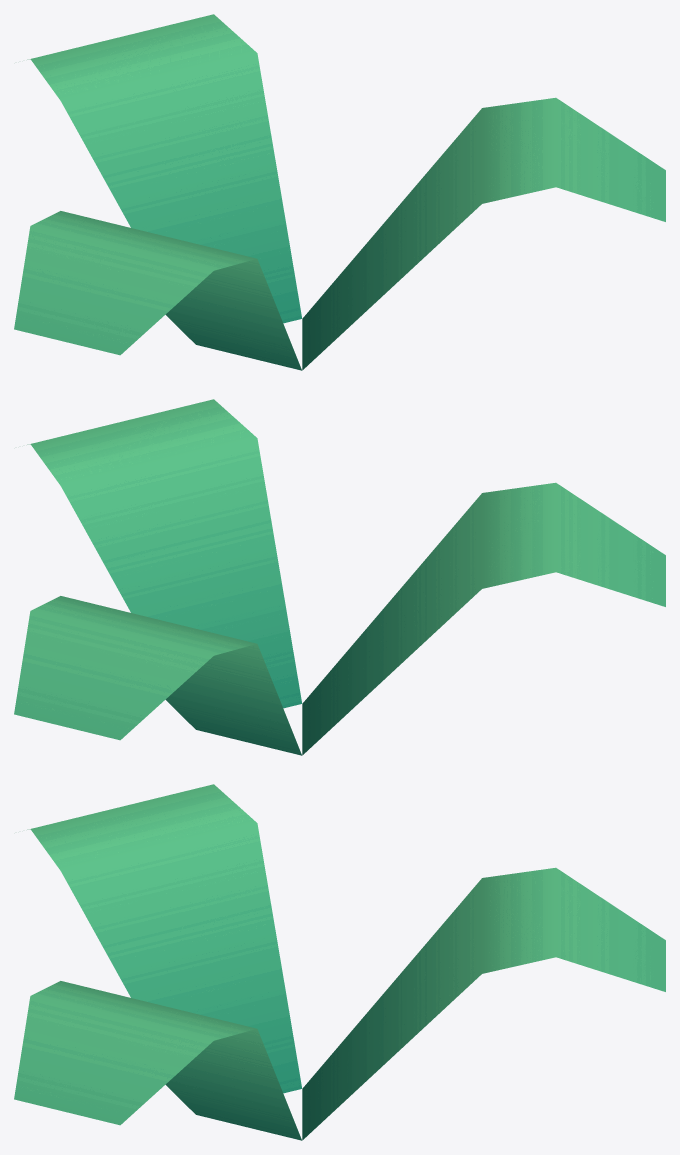
Rendered from plant.glb.
3 renders of one model, top to bottom at view 1: azimuth 30°, elevation 25°; view 2: azimuth 150°, elevation 25°; view 3: azimuth 270°, elevation 25°, orthographic.
Visible parts, largest first — view 1: plant; view 2: plant; view 3: plant.
Boxes of the visible parts, bbox=[...] form: plant: bbox=[14, 14, 665, 370]; plant: bbox=[14, 399, 665, 755]; plant: bbox=[14, 784, 665, 1140].
Size of the model in its own units: 0.5514 by 0.1635 by 0.4775.
Materials: 1 (1 with a texture image).
